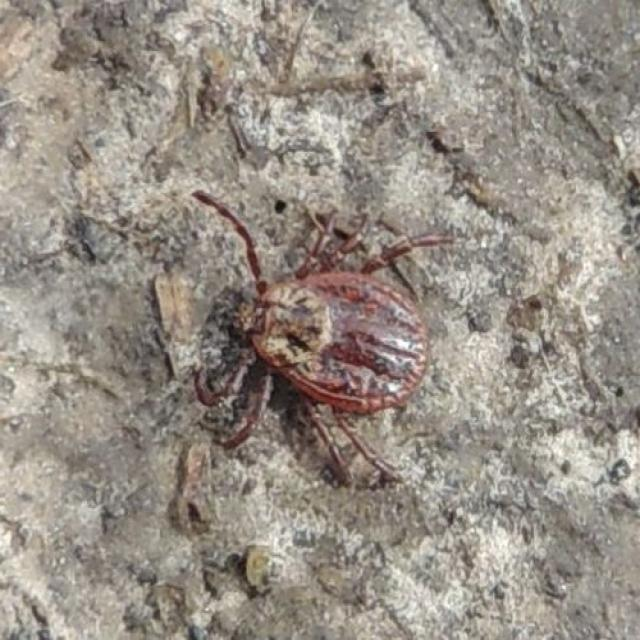Dermacentor Reticulatus-F: (194, 190, 453, 487)
